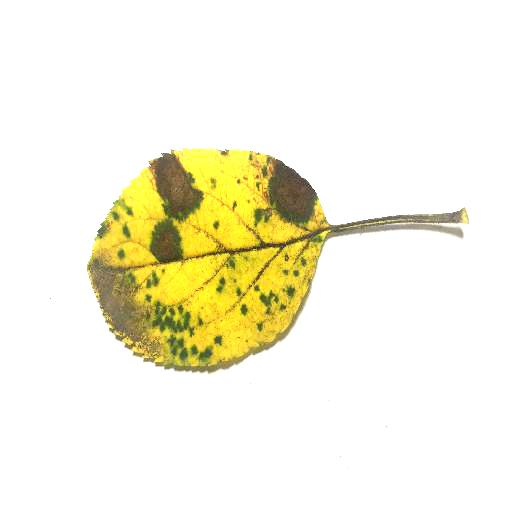Brown_Spot: (99, 281, 159, 361), (264, 167, 316, 218), (152, 163, 185, 214), (153, 232, 181, 263)
